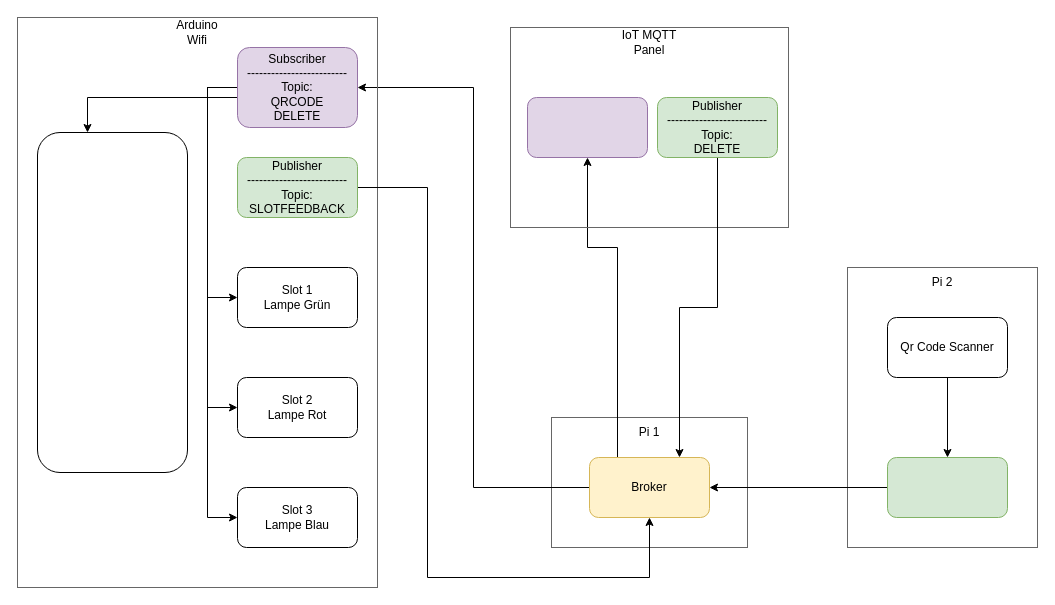
Image size: 1055x605. Some labels were removed from this diagram. The centre of each missing label's shape, as x and y in pixels:
LCD Bildschirm Wo Befinden sich die Pakete (QR Codes): the point at 112,302
Publisher ------------------------- Topic: QRCODE: the point at 947,487
Subscriber ------------------------- Topic: SLOTFEEDBACK: the point at 587,127
